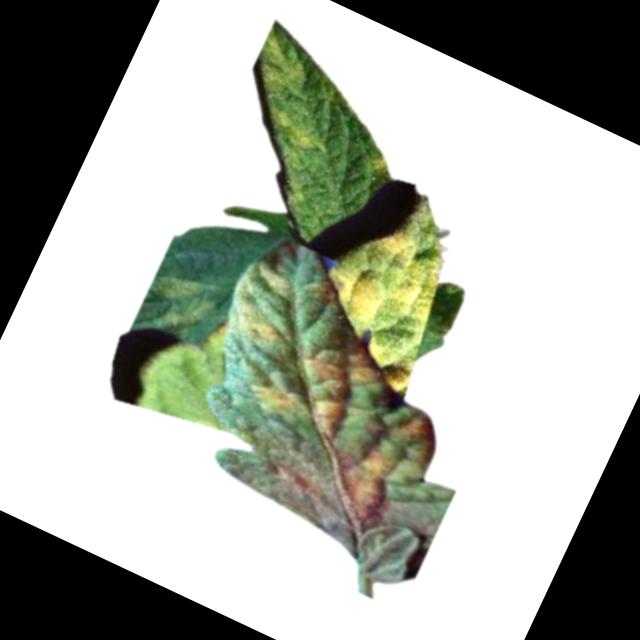Leaf_Mold: (300, 211, 468, 399), (281, 356, 367, 444), (335, 442, 406, 527), (250, 29, 317, 95), (260, 107, 331, 160), (243, 376, 307, 428), (233, 307, 296, 356), (372, 149, 393, 171)
